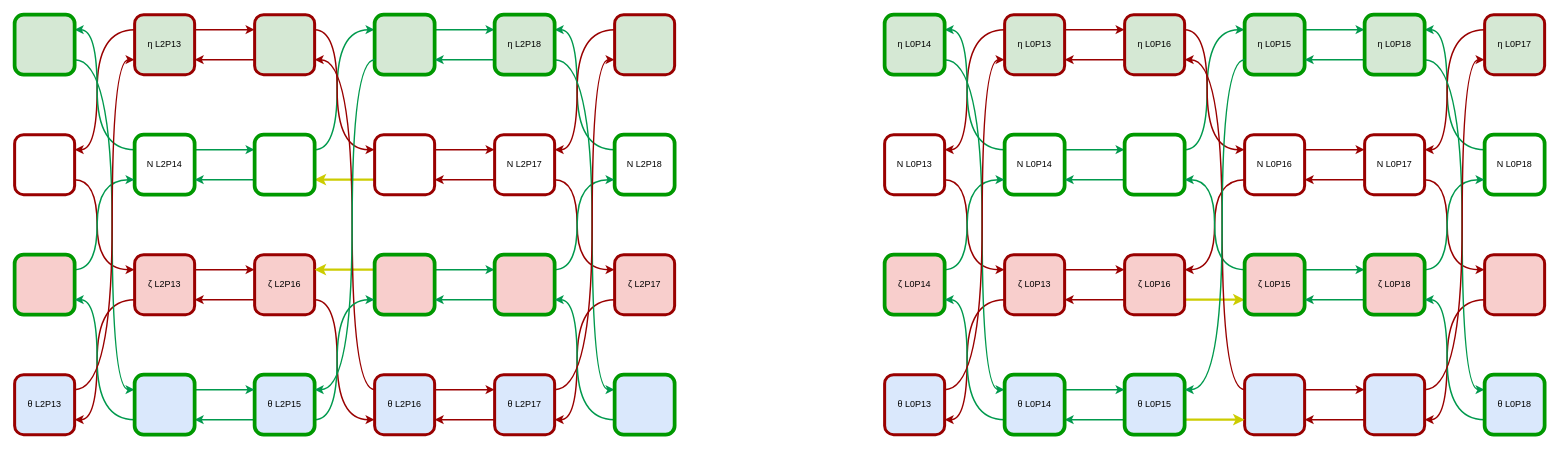
Image size: 1559x449. Some labels were removed from this diagram. The shapes that lost their labels are listed below. From the top down, each one's centre as x and y in pixels, then its label:
point (44, 44): η L2P14
point (284, 44): η L2P16
point (404, 44): η L2P15
point (644, 44): η L2P17
point (44, 164): N L2P13
point (284, 164): N L2P15
point (404, 164): N L2P16
point (1154, 164): N L0P15
point (44, 284): ζ L2P14
point (404, 284): ζ L2P15
point (524, 284): ζ L2P18
point (1514, 284): ζ L0P17
point (164, 404): θ L2P14
point (644, 404): θ L2P18
point (1274, 404): θ L0P16
point (1394, 404): θ L0P17
